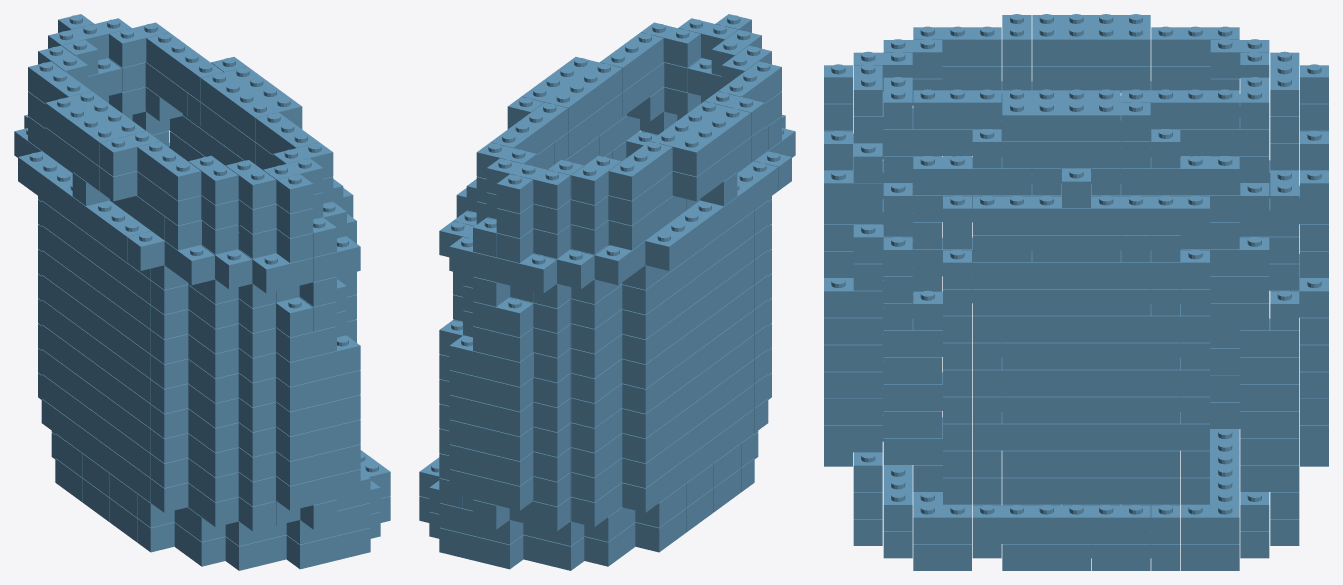
File: 009_basket_L4.glb
3 views of the same model, side by side, from view 1: azimuth 30°, elevation 25°; view 2: azimuth 150°, elevation 25°; view 3: azimuth 270°, elevation 25° (orthographic). The views are drawn at different scales.
Size of the model in its own units: 9.98 by 16.13 by 16.98.
